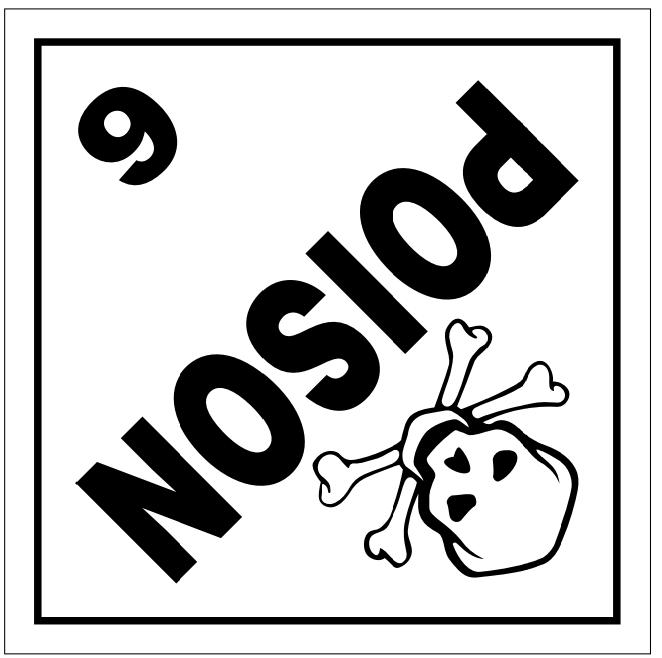poison: (1, 1, 662, 658)
